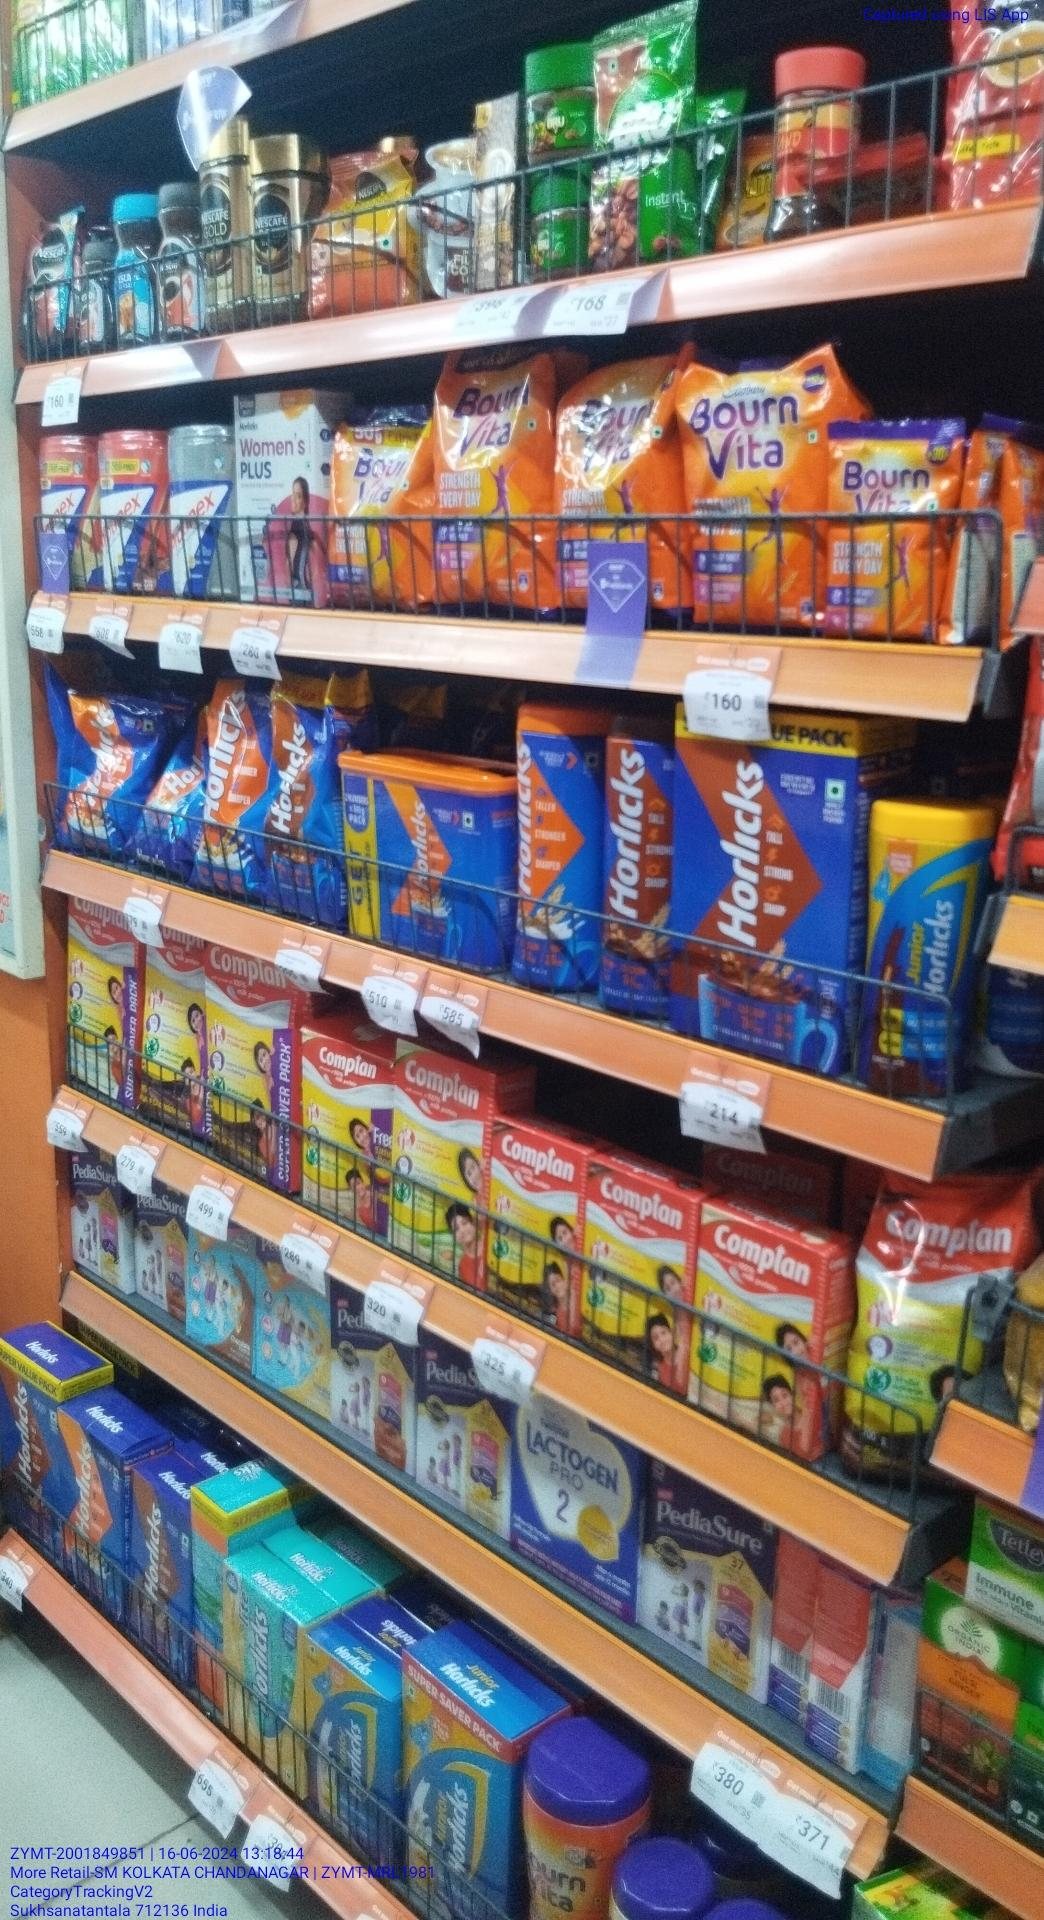BOURN_VITA_1_KG_POUCH: (432, 347, 552, 613)
BOURN_VITA_75_G_POUCH: (829, 422, 948, 643)
COMPLAN_CHOCOLATE_200_GMS_PACK: (581, 1163, 683, 1400), (489, 1121, 576, 1324)
COMPLAN_KESAR_BADAM_200_GMS_PACK: (699, 1214, 814, 1453)
COMPLAN_PISTA_BADAM_500_GMS_PACK: (395, 1044, 485, 1285)
HORLICK_CHOCOLATE_1_KG_JAR: (597, 713, 667, 1014)
HORLICK_CHOCOLATE_1_KG_PACK: (675, 706, 849, 1078)
HORLICK_CHOCOLATE_500_G_PACK: (269, 670, 339, 924)
HORLICK_CLASSIC_MALT_750_G_POUCH: (204, 673, 267, 906)
HORLICK_MALT_1_KG_CONTAINER: (342, 754, 500, 972)
PROTINEX_CHOCOLATE_400_G_JAR: (100, 429, 167, 596)
PROTINEX_ORIGINAL_400_G_JAR: (168, 424, 234, 600)
PROTINEX_VANILLA_400_G_JAR: (36, 436, 96, 594)
